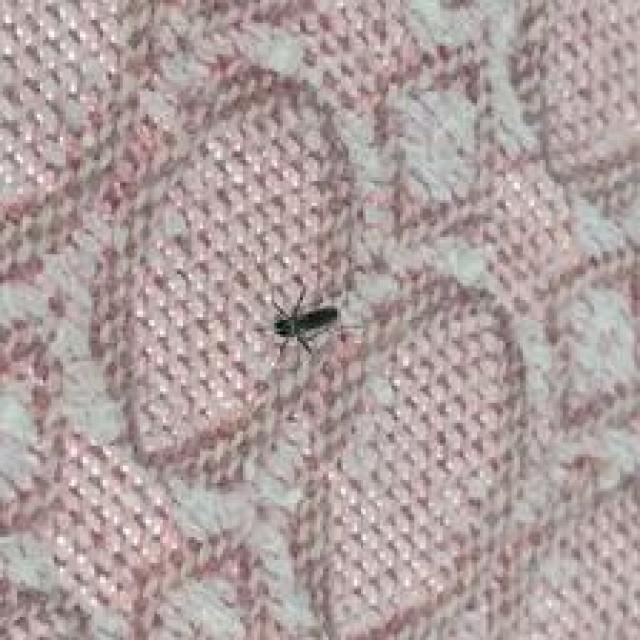Aedes albopictus: (257, 284, 340, 356)
